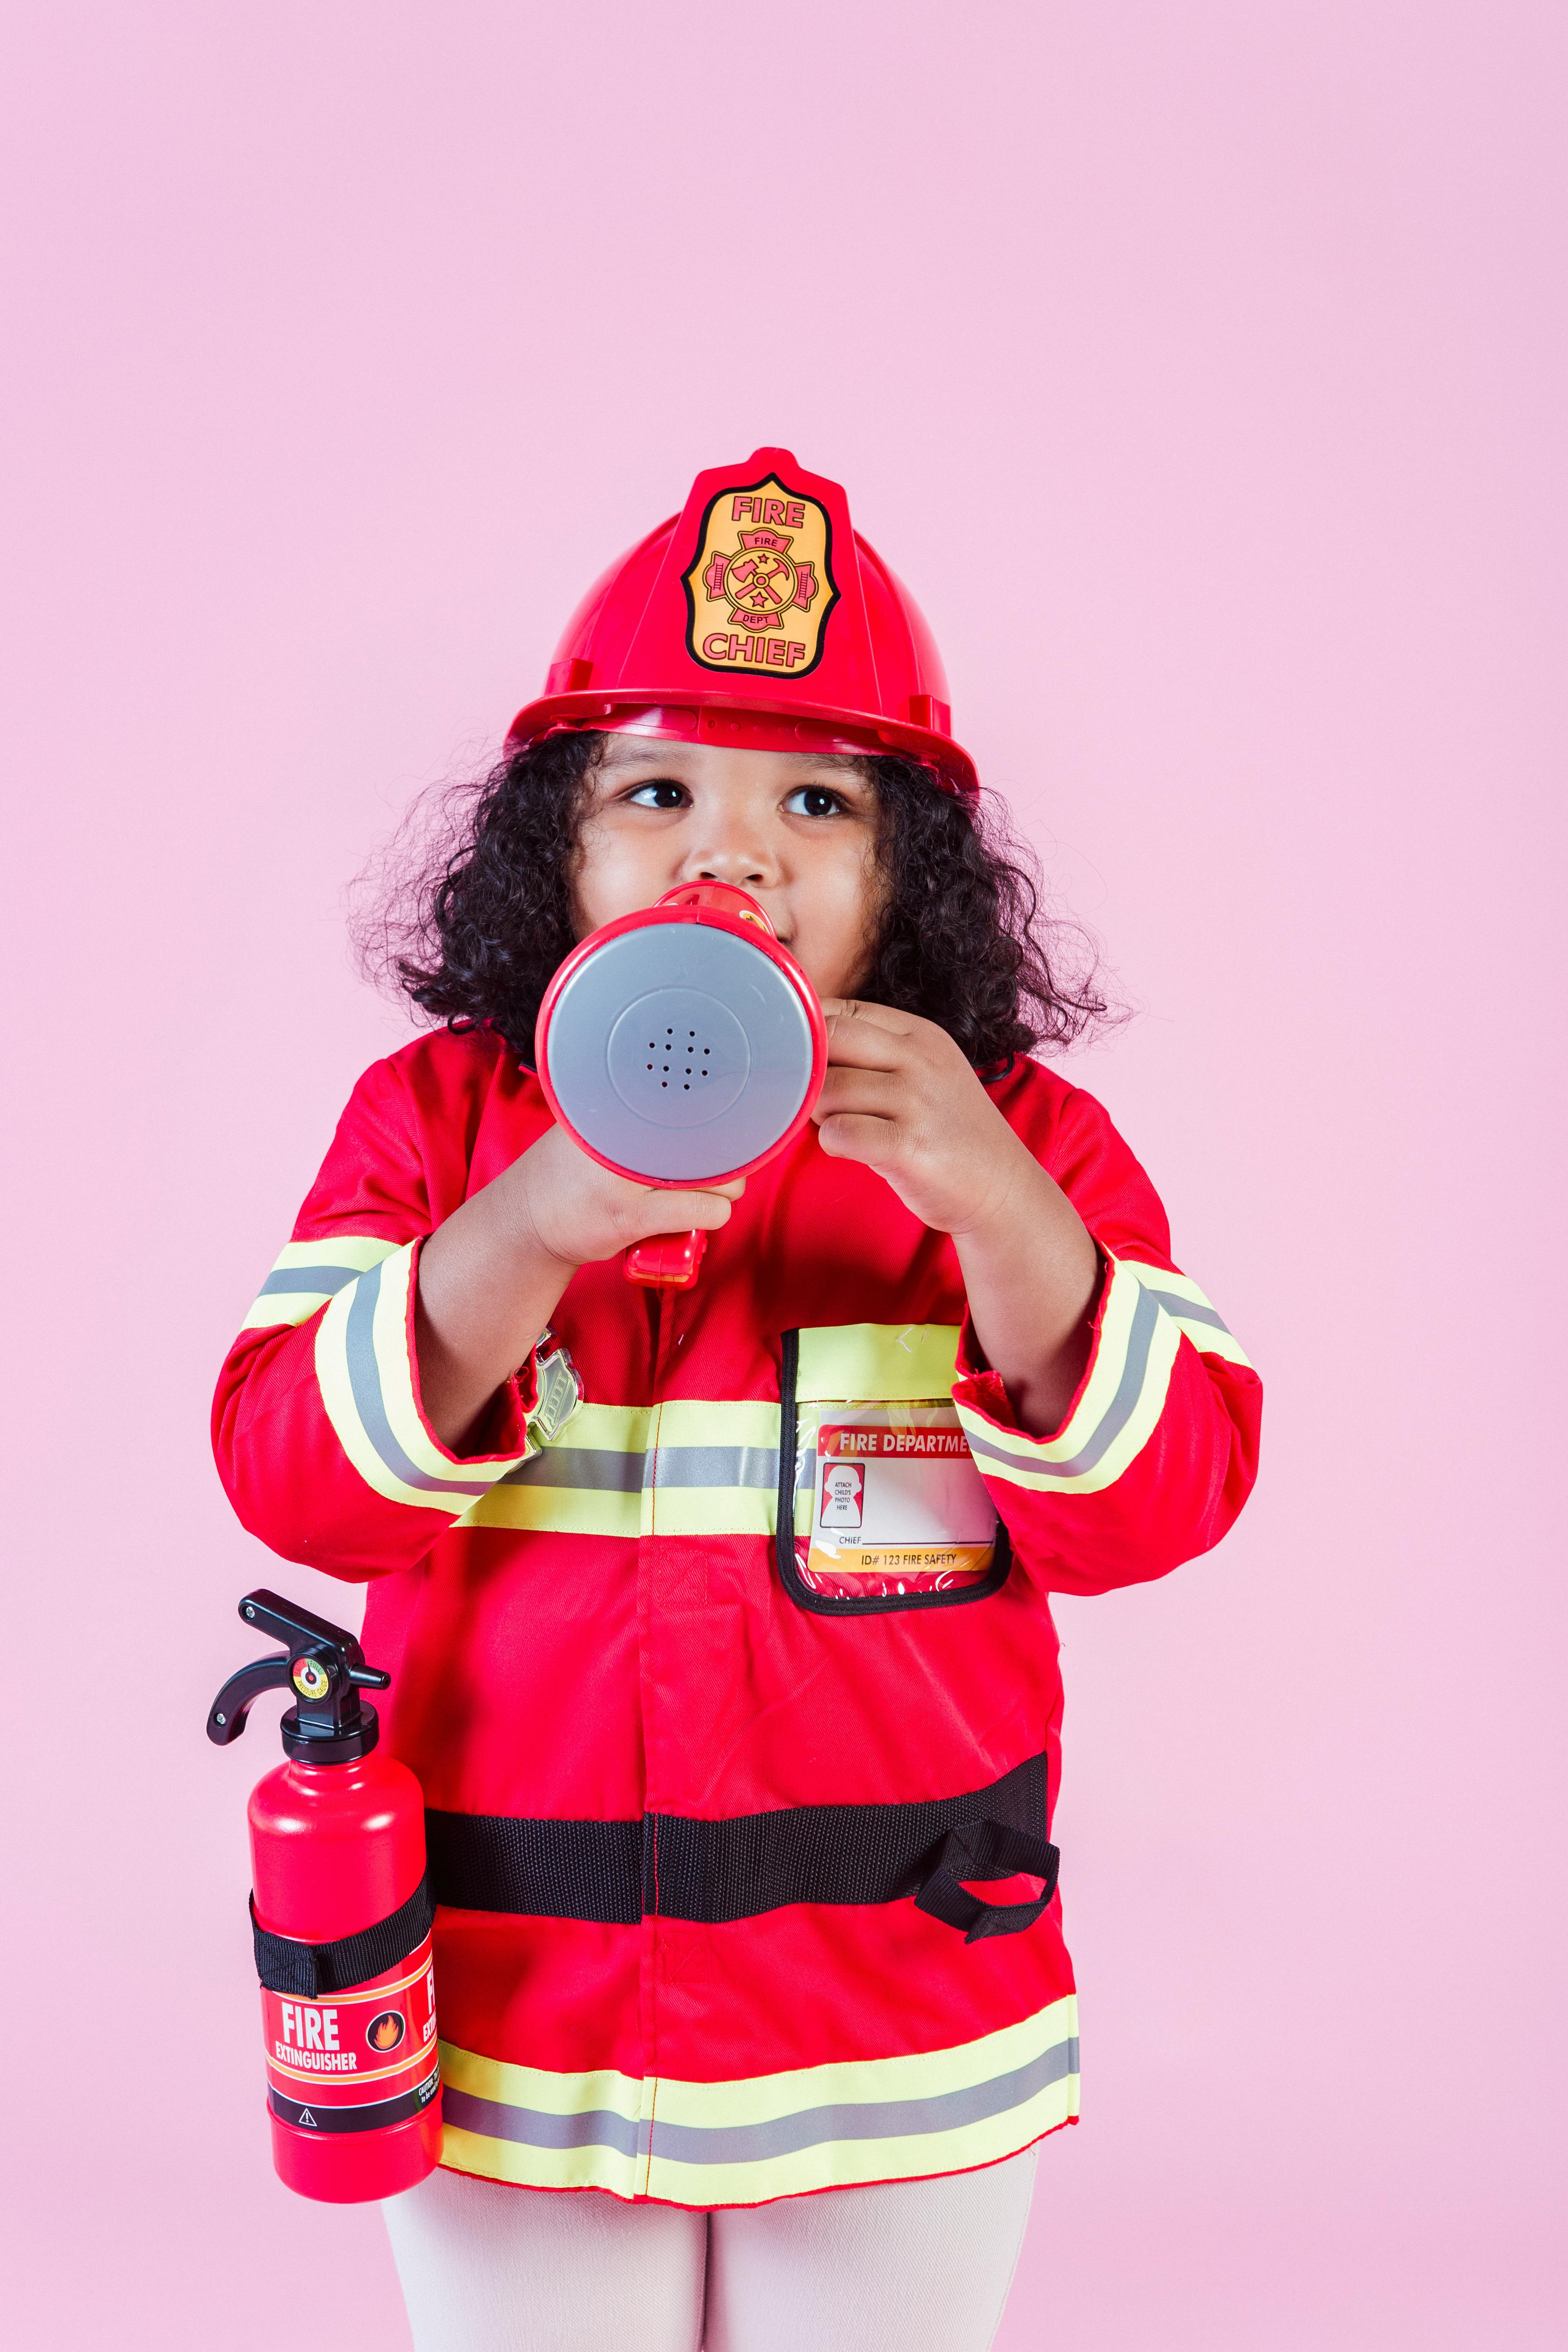extintor: (198, 1575, 453, 2201)
